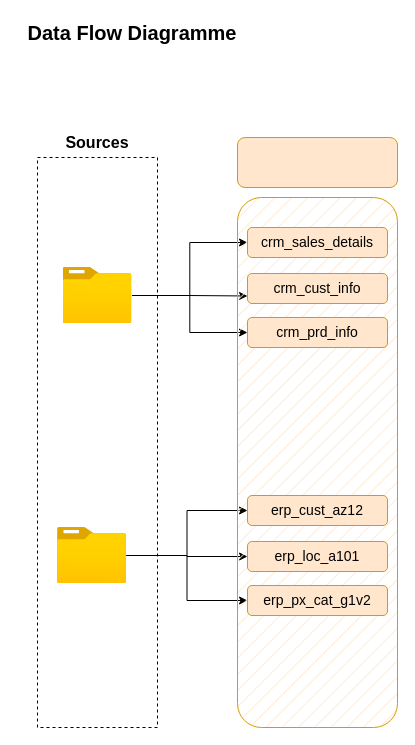
The diagram is 415 pixels wide and 745 high, and some of its shapes have lost their labels. Each missing label, with the centre of its shape:
"Bronze Layer" belongs at (x=317, y=162).
"CRM" belongs at (x=97, y=295).
"ERP" belongs at (x=91, y=555).
